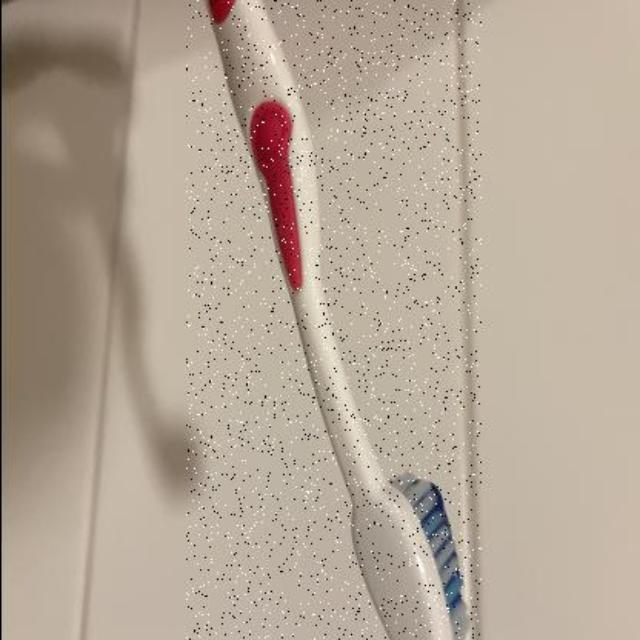toothbrush: (185, 0, 480, 640)
